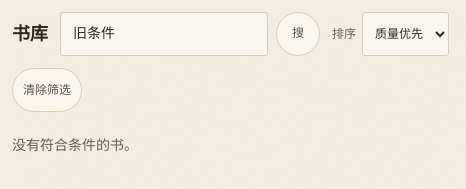
书库加载失败恢复 › 已有空结果后换条件失败，不把上次的空结果解释为当前条件无书
Check: the text "没有符合条件的书。" is shown, box 12,138 -> 138,153
Replace the text in the field named "书库搜索" with "新条件" at [164, 34], box 60,12 -> 268,56
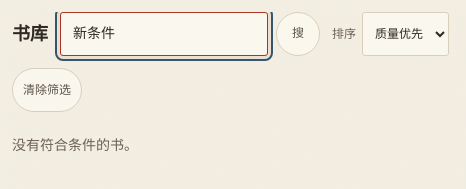
Click the button "搜" at [298, 34], box 276,12 -> 320,56
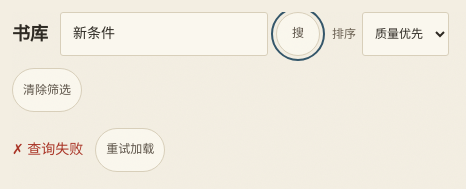
Check: the message "✗ 查询失败 重试加载" is shown, box 12,128 -> 165,172
Check: the text "没有符合条件的书。" is gone
